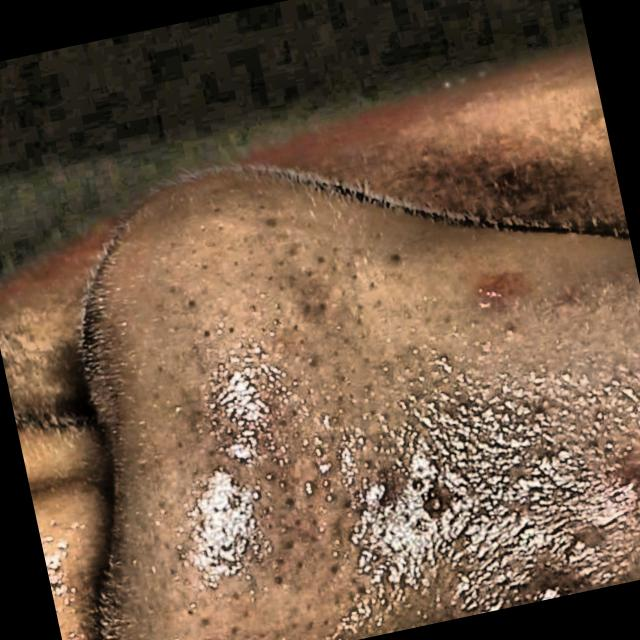whiteheads: (560, 526, 600, 565), (296, 476, 324, 502)
